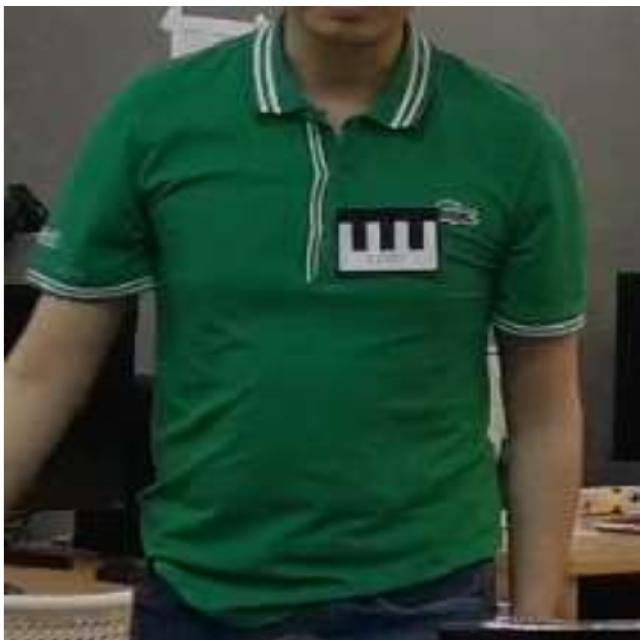staff-tag: (339, 209, 436, 270)
